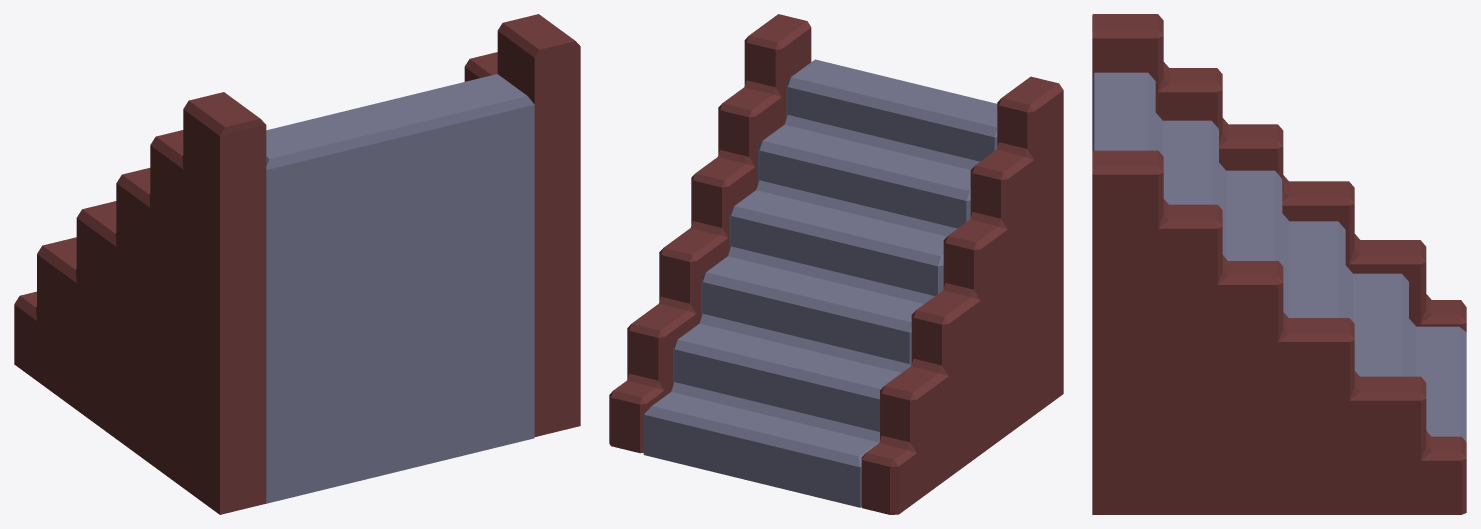
The model's file is escalera2.fbx.
The picture shows the model from 3 angles, left to right: view 1: azimuth 30°, elevation 25°; view 2: azimuth 150°, elevation 25°; view 3: azimuth 270°, elevation 25°; orthographic projection. The views are drawn at different scales.
Visible parts, largest first — view 1: Cube.001, Cube; view 2: Cube.001, Cube; view 3: Cube, Cube.001.
Boxes of the visible parts, x1,y1,x2,y2 form: Cube.001: (266, 74, 534, 503); Cube: (14, 14, 580, 514); Cube.001: (643, 59, 997, 507); Cube: (609, 14, 1063, 514); Cube: (1092, 14, 1466, 514); Cube.001: (1092, 72, 1466, 441).
Size of the model in its own units: 199 by 205 by 200.
